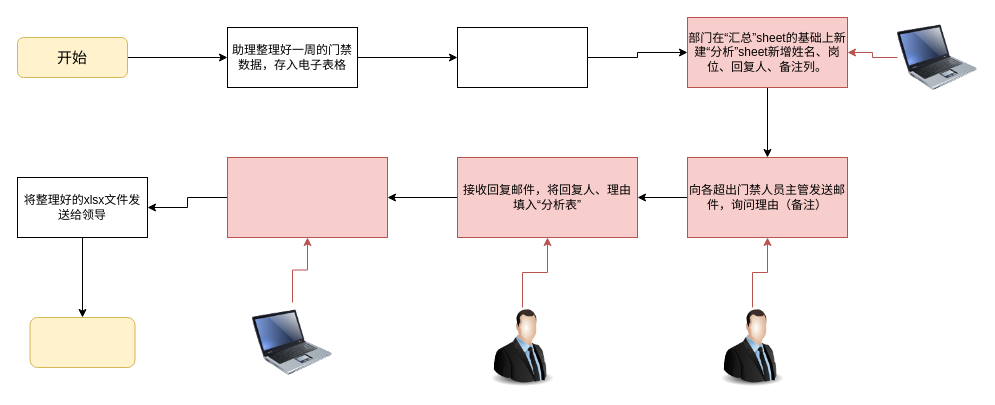
Some shapes in this 995 by 405 pixel diagram are drawn without their labels. The centre of each missing label's shape, as x and y in pixels:
将整理好的表格发给整理数据的部门: point (522, 57)
根据“分析“sheet””新建“整理”sheet，里面包含四列部门、岗位、总次数、理由。最后一栏为进出的总次数: point (307, 197)
结束: point (82, 342)
